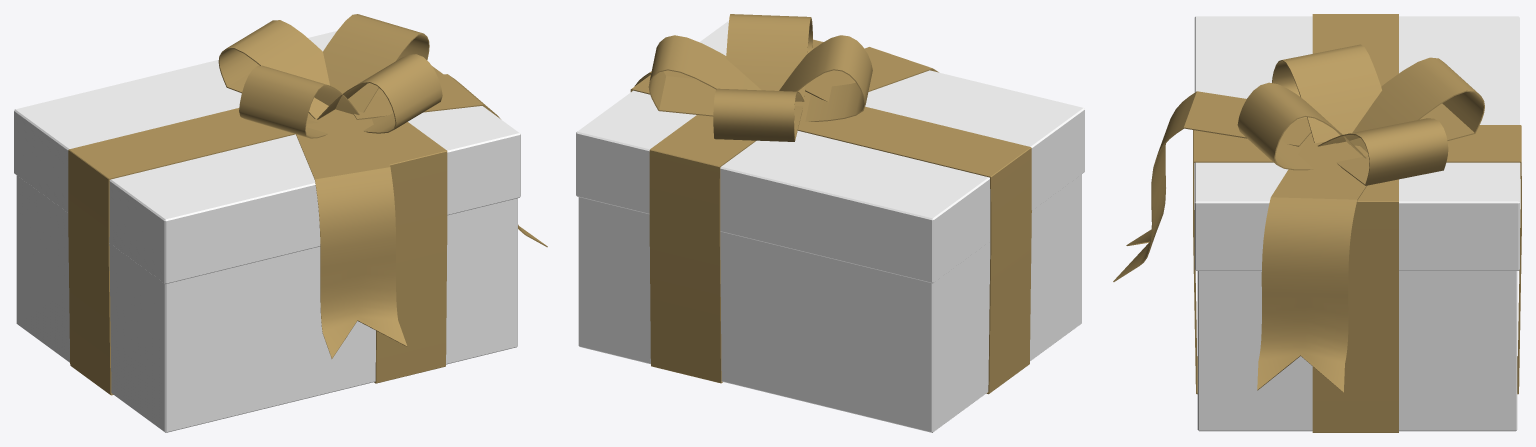
3 renders of one model, left to right at view 1: azimuth 30°, elevation 25°; view 2: azimuth 150°, elevation 25°; view 3: azimuth 270°, elevation 25°, orthographic. The views are drawn at different scales.
Parts seen in each view (by area): view 1: 3ab1114ef6786a97e7ad6a0cff617d4f576b33e2 > > root > (×2); view 2: 3ab1114ef6786a97e7ad6a0cff617d4f576b33e2 > > root > (×2); view 3: 3ab1114ef6786a97e7ad6a0cff617d4f576b33e2 > > root > (×2).
Part boxes in pixels (bbox=[...]): 3ab1114ef6786a97e7ad6a0cff617d4f576b33e2 > > root > (×2): bbox=[14, 14, 547, 432]; 3ab1114ef6786a97e7ad6a0cff617d4f576b33e2 > > root > (×2): bbox=[576, 14, 1084, 432]; 3ab1114ef6786a97e7ad6a0cff617d4f576b33e2 > > root > (×2): bbox=[1113, 14, 1521, 432].
Size of the model in its own units: 0.4454 by 0.275 by 0.3518.
